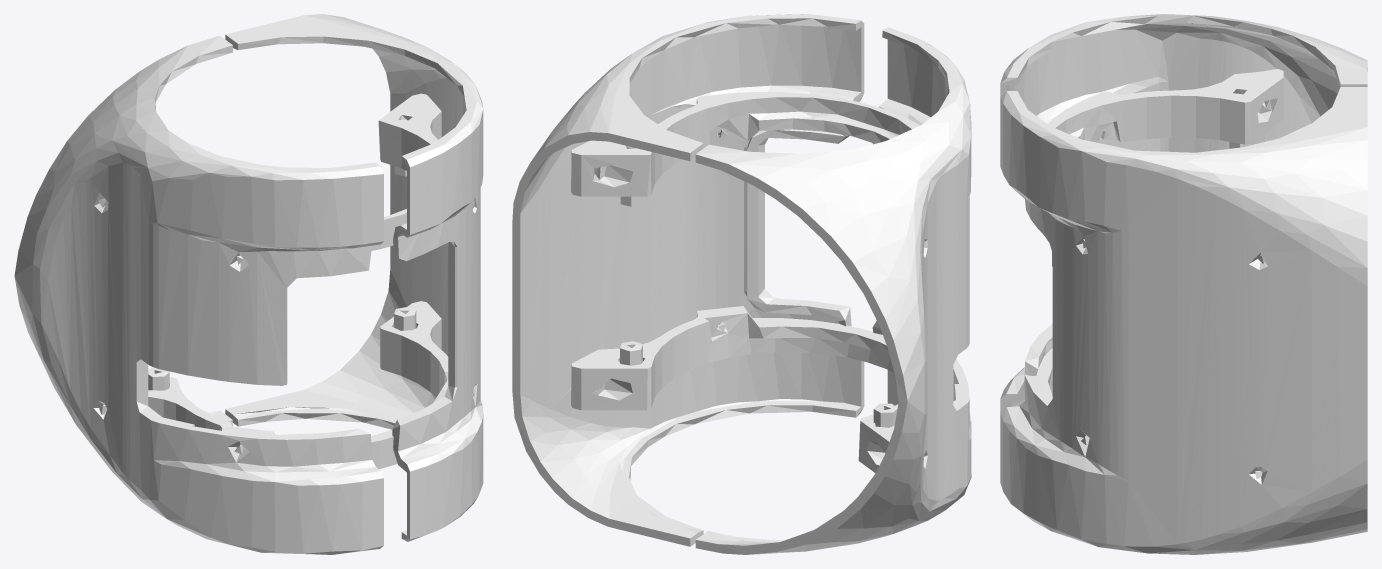
The model's file is torso_1.dae.
The picture shows the model from 3 angles, left to right: view 1: azimuth 30°, elevation 25°; view 2: azimuth 150°, elevation 25°; view 3: azimuth 270°, elevation 25°; orthographic projection. The views are drawn at different scales.
Parts seen in each view (by area): view 1: node; view 2: node; view 3: node.
Part boxes in pixels (<box>): node: <box>14,14,483,554</box>; node: <box>512,14,971,554</box>; node: <box>1000,14,1367,554</box>.
Size of the model in its own units: 0.149 by 0.1423 by 0.119.
1 material, 1 textured.
